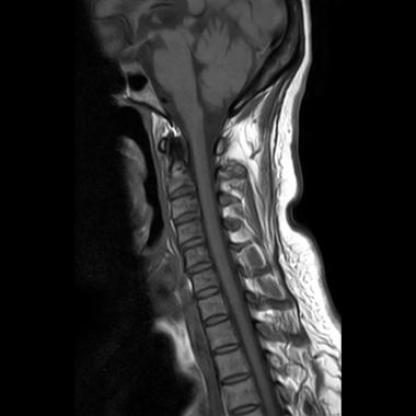Disc Bulgerotation: (187, 258, 214, 276)
